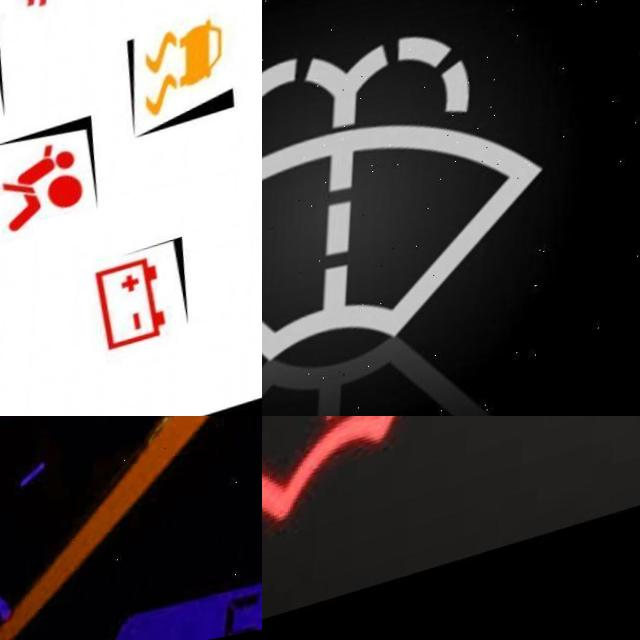Washer Fluid: (262, 27, 555, 394), (262, 416, 485, 540)
